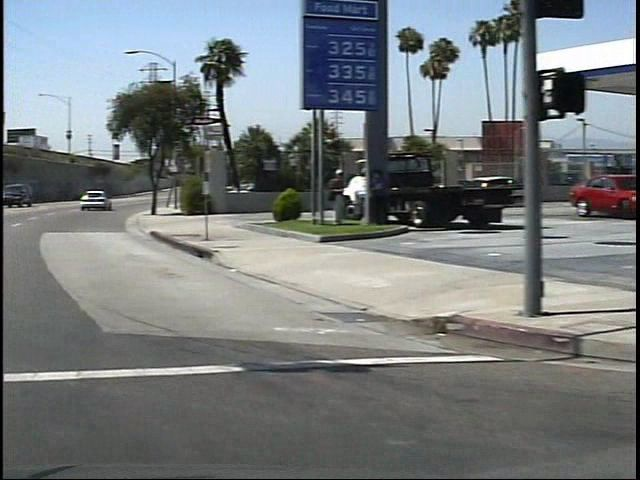person: (317, 162, 342, 227)
